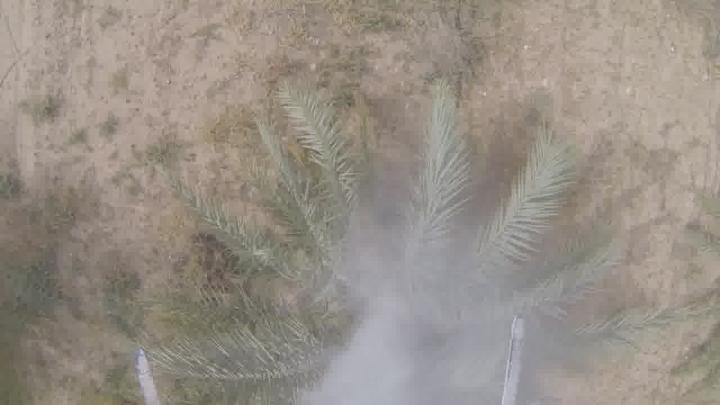Date-Palm-Crown: (268, 161, 556, 405)
